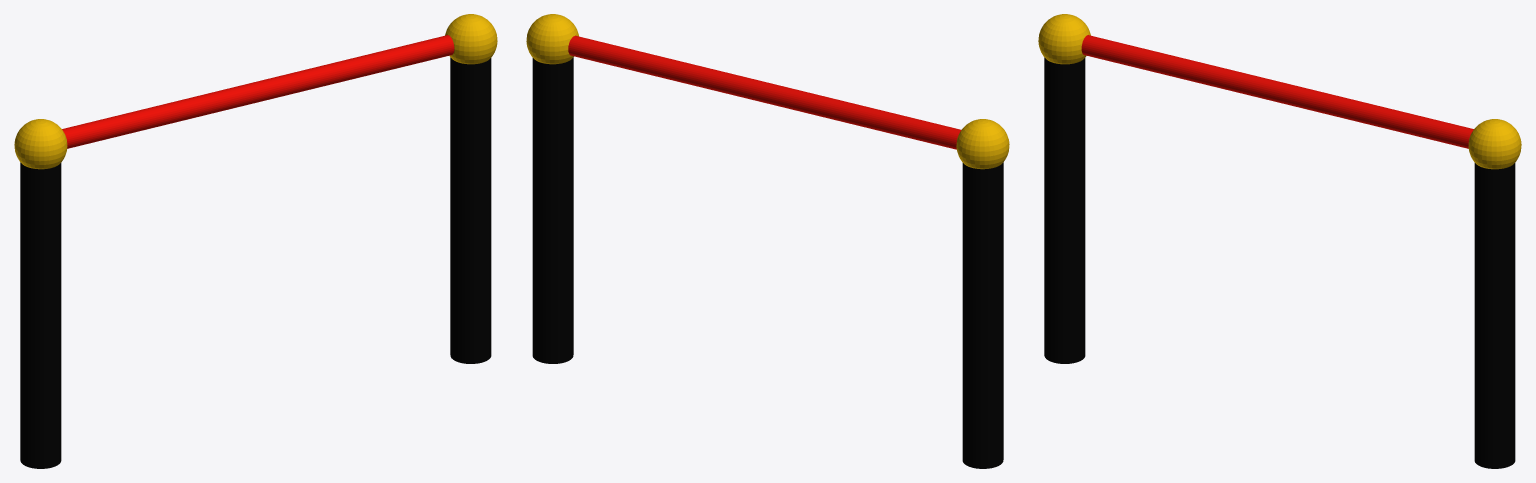
File: zone.glb
3 views of the same model, side by side, from view 1: azimuth 30°, elevation 25°; view 2: azimuth 150°, elevation 25°; view 3: azimuth 330°, elevation 25° (orthographic).
Parts seen in each view (by area): view 1: 실린더.001; view 2: 실린더.001; view 3: 실린더.001.
Part boxes in pixels (x1,y1,x2,y2): 실린더.001: [14, 14, 497, 468]; 실린더.001: [526, 14, 1009, 468]; 실린더.001: [1038, 14, 1521, 468].
Size of the model in its own units: 6.96 by 4.74 by 0.6734.
